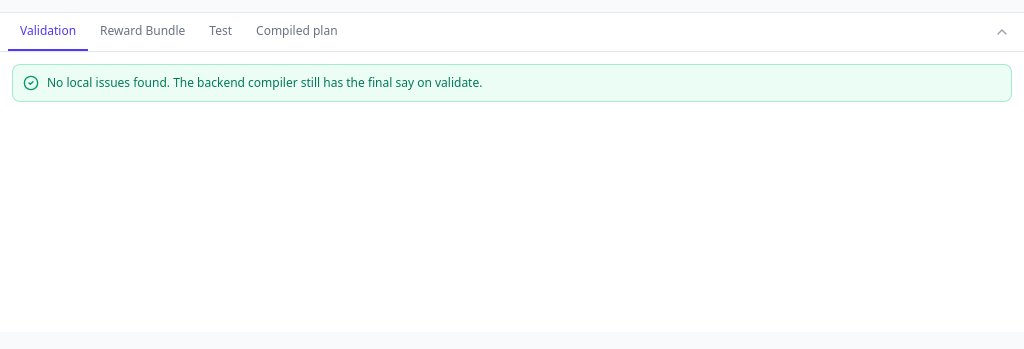
Test: RuleBottomPanel dry run › renders the unwrapped backend evaluation fields
Click the button "Test": point(221, 32) x1=197 y1=13 x2=244 y2=51
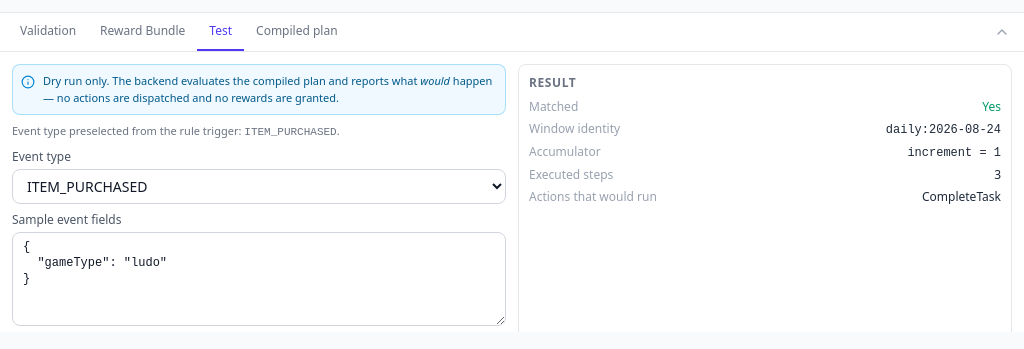
Now the text "Yes" is shown, box x1=982 y1=98 x2=1001 y2=115
Now the text "daily:2026-08-24" is shown, box x1=886 y1=123 x2=1001 y2=137
Now the text "CompleteTask" is shown, box x1=922 y1=189 x2=1001 y2=205
